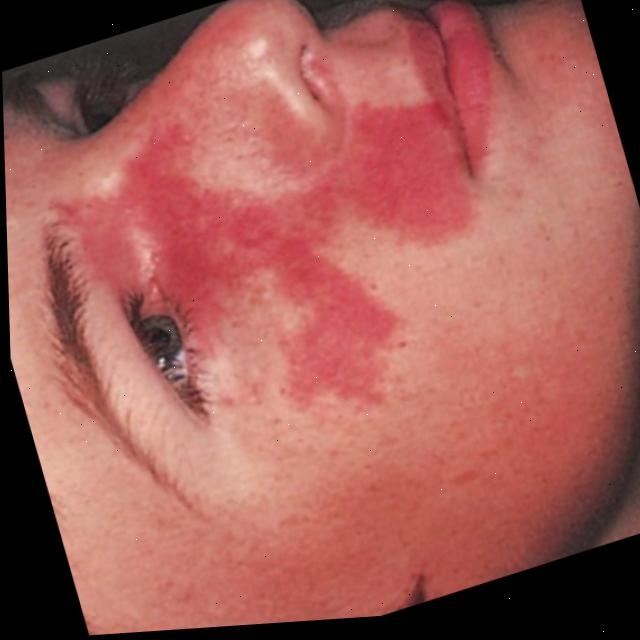Rosacea: (66, 57, 494, 455)
